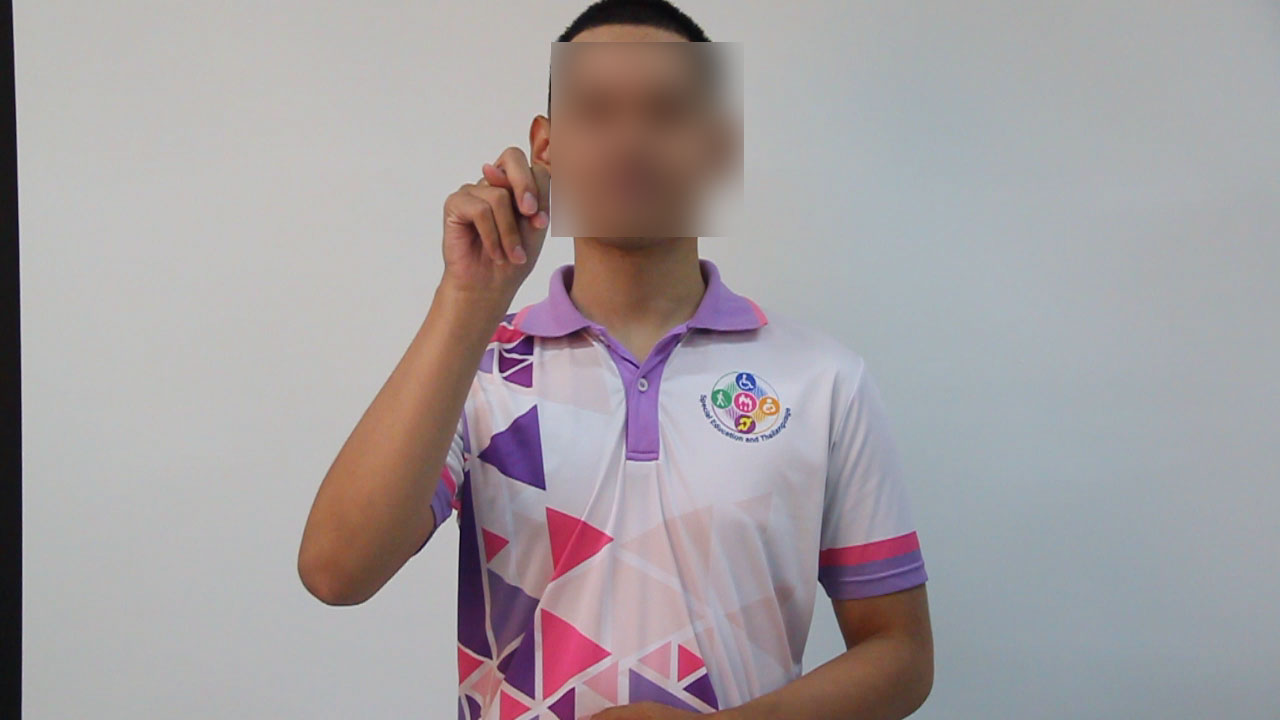nor: (413, 139, 578, 285)
